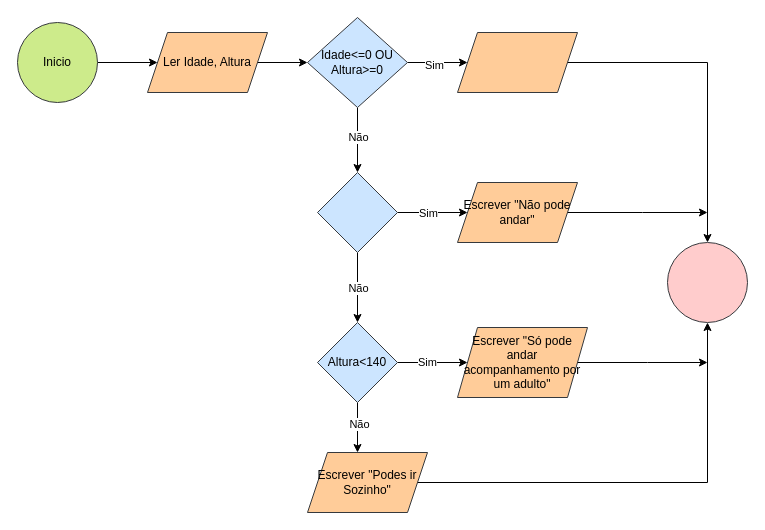
Image size: 765x530. Some labels were removed from this diagram. The shapes that lost their labels are listed below. From the top down, each one's centre as x and y in pixels, then its label:
(x=517, y=62): Escrever "Dados Invalidos"
(x=357, y=212): Idade<12
(x=707, y=282): Fim
